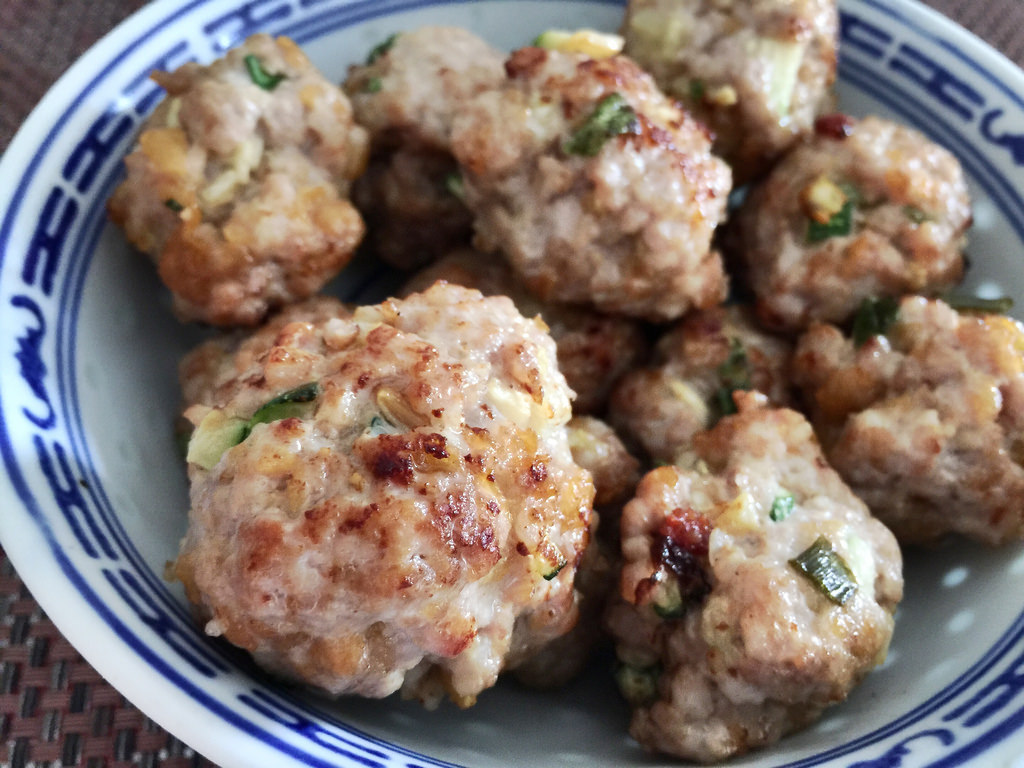meatballs: (126, 40, 996, 715), (167, 313, 594, 692), (618, 410, 910, 747), (454, 28, 735, 328), (132, 41, 394, 296)
